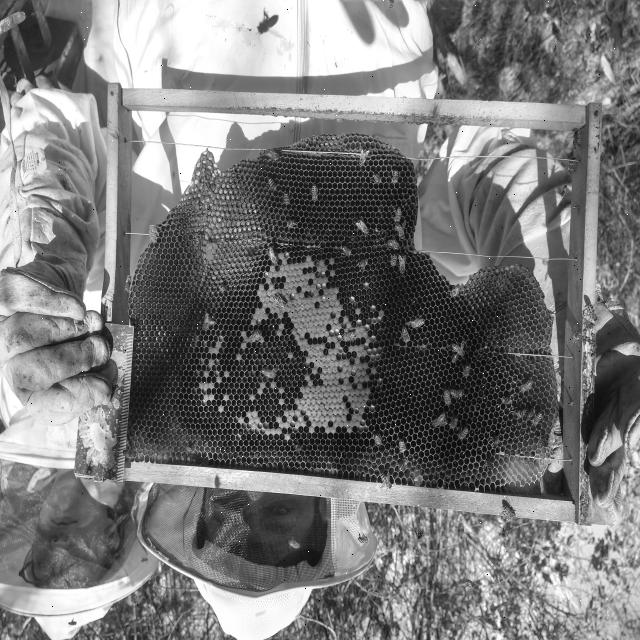cria: (181, 244, 442, 452)
marco: (108, 112, 580, 493)
